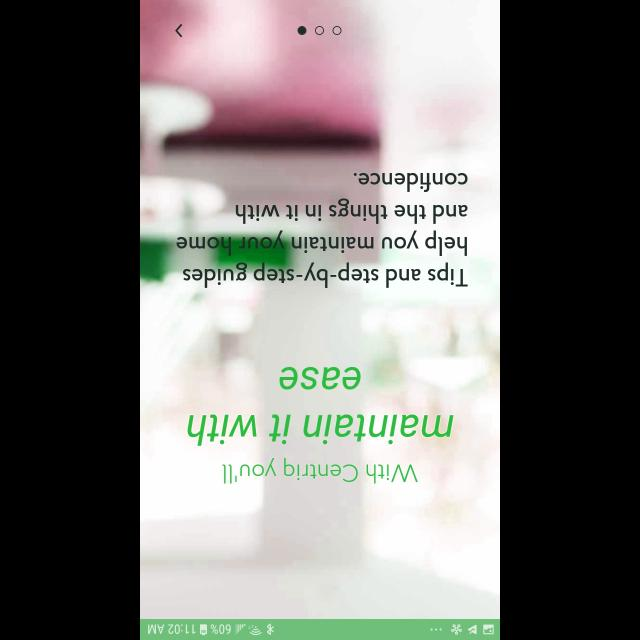backgroundimage: (140, 0, 500, 618)
icon: (175, 24, 182, 38)
pageindicator: (297, 25, 341, 35)
text: (176, 172, 468, 288), (187, 366, 453, 446), (222, 457, 418, 483)
uppertaskbar: (140, 618, 500, 640)
